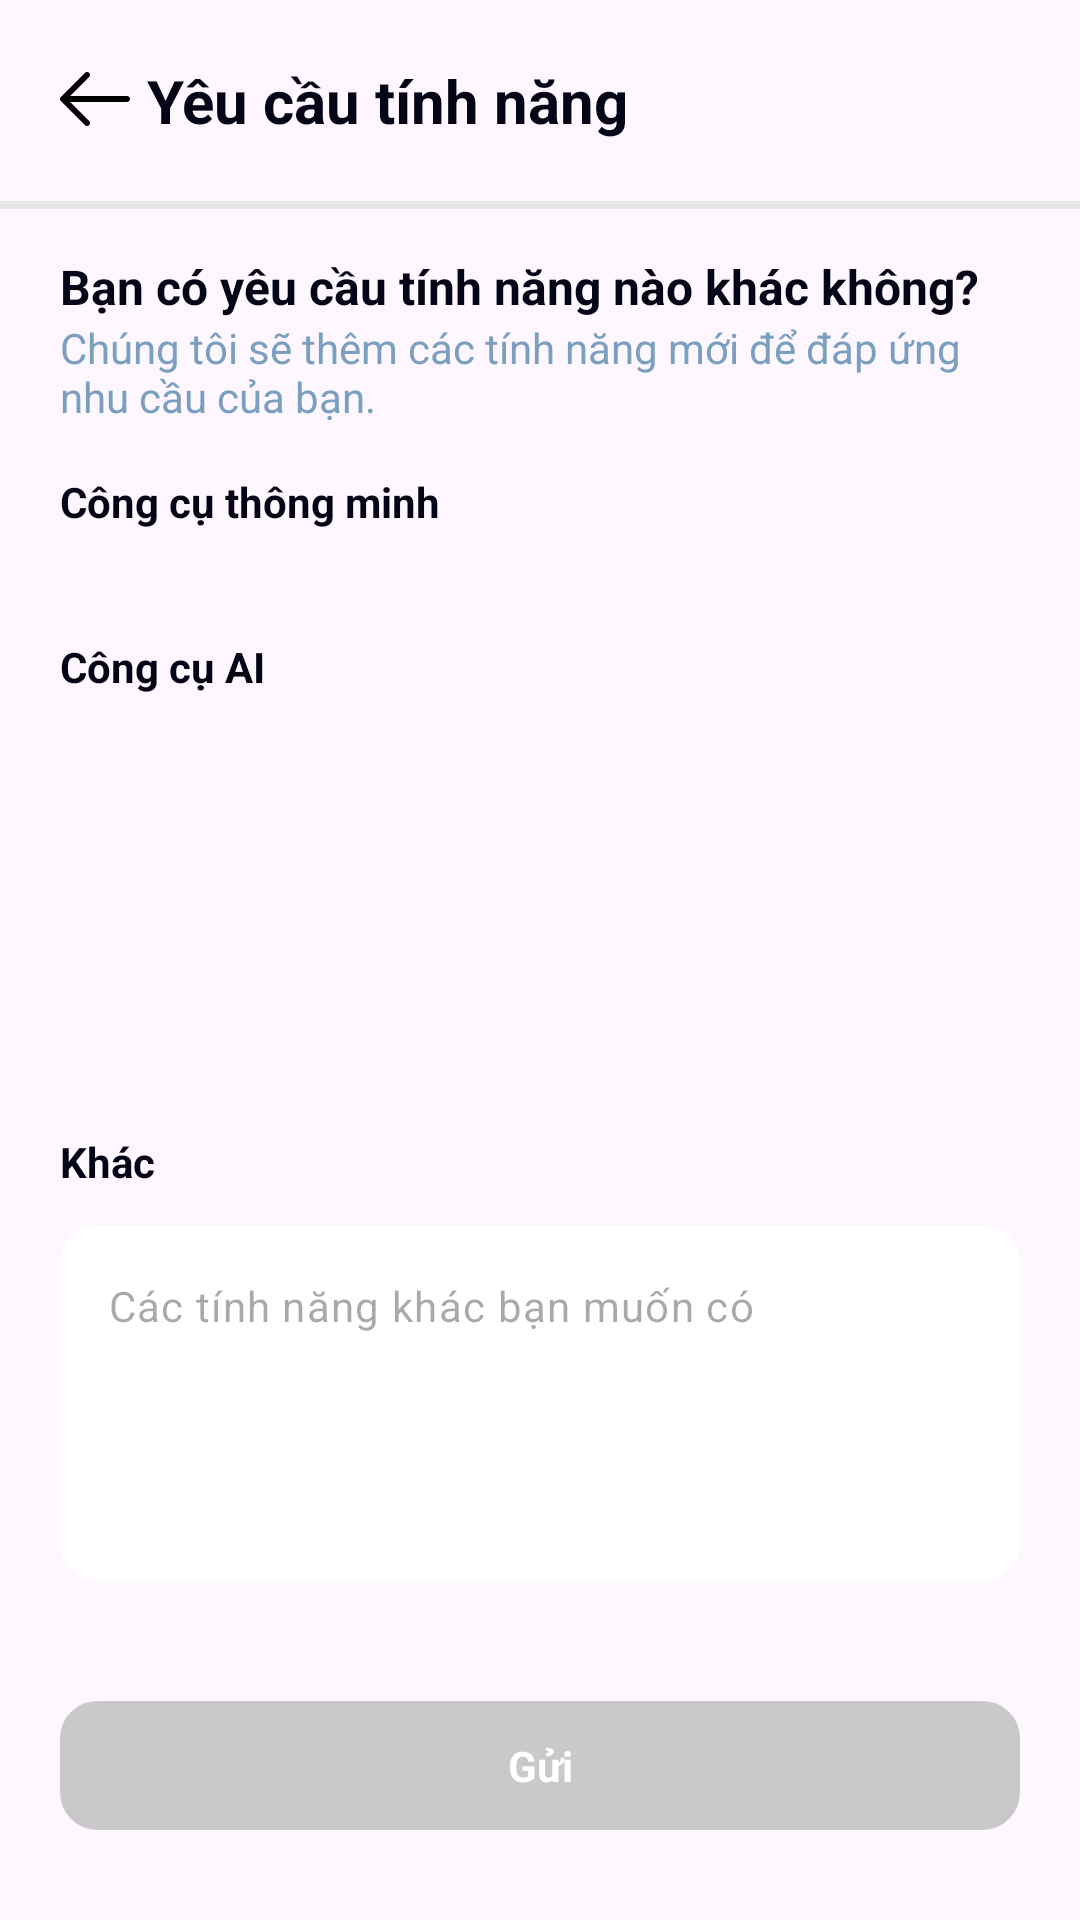

Where to tap for icons on this 1080px x 1920px app screen, as [x,y]:
feature request arrow left: [95,99]
